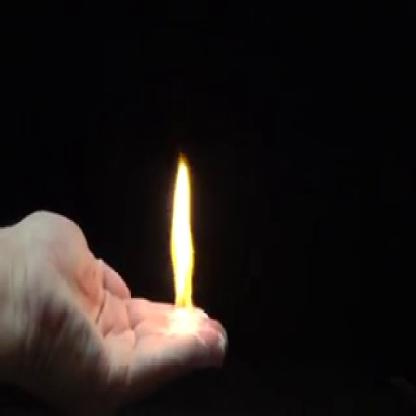fire: (163, 149, 203, 343)
